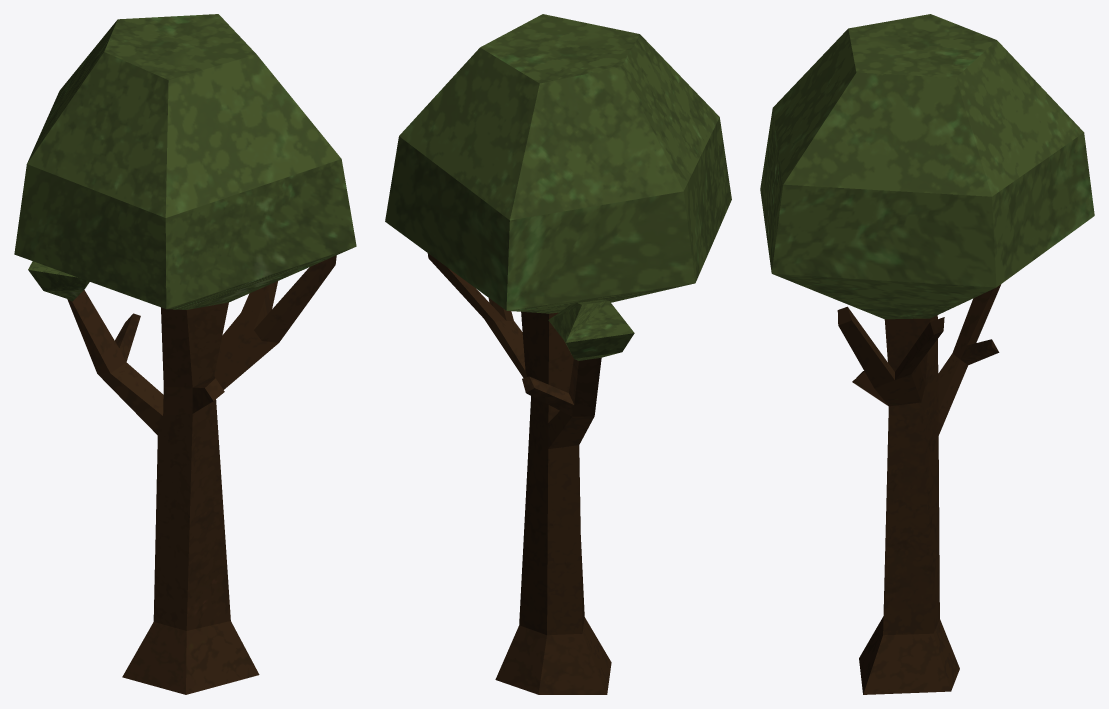
Rendered from tree.glb.
3 renders of one model, left to right at view 1: azimuth 30°, elevation 25°; view 2: azimuth 150°, elevation 25°; view 3: azimuth 270°, elevation 25°, orthographic.
Parts seen in each view (by area): view 1: Cube; view 2: Cube; view 3: Cube.
Part boxes in pixels (<box>): Cube: <box>14,14,356,694</box>; Cube: <box>385,14,731,694</box>; Cube: <box>760,14,1094,694</box>.
Size of the model in its own units: 2.23 by 4.73 by 2.3.
1 material, 1 textured.
